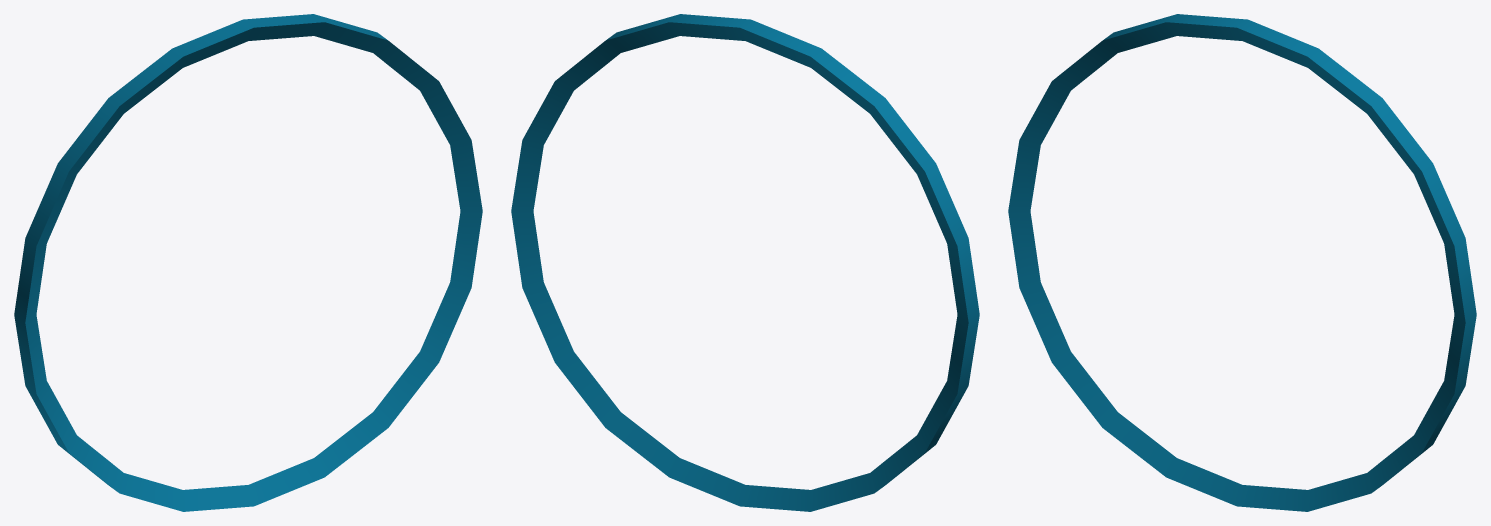
Rendered from Tower-CAPTURERING1.obj.
The picture shows the model from 3 angles, left to right: view 1: azimuth 30°, elevation 25°; view 2: azimuth 150°, elevation 25°; view 3: azimuth 330°, elevation 25°; orthographic projection.
Visible parts, largest first — view 1: polySurface12 polySurface6; view 2: polySurface12 polySurface6; view 3: polySurface12 polySurface6.
Part boxes in pixels (x1,y1,x2,y2): polySurface12 polySurface6: [14, 14, 482, 511]; polySurface12 polySurface6: [511, 14, 979, 511]; polySurface12 polySurface6: [1008, 14, 1476, 511].
Bounding box in the file's own units: 1.19 × 1.19 × 0.0504.
